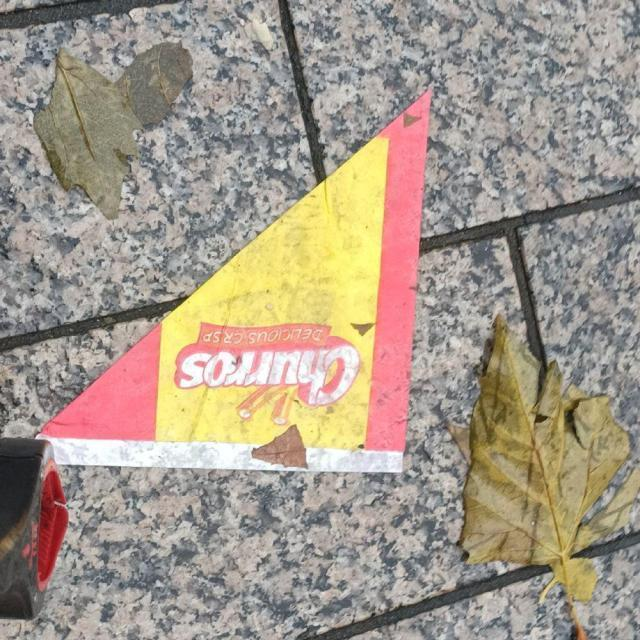Paper: (31, 81, 436, 478)
